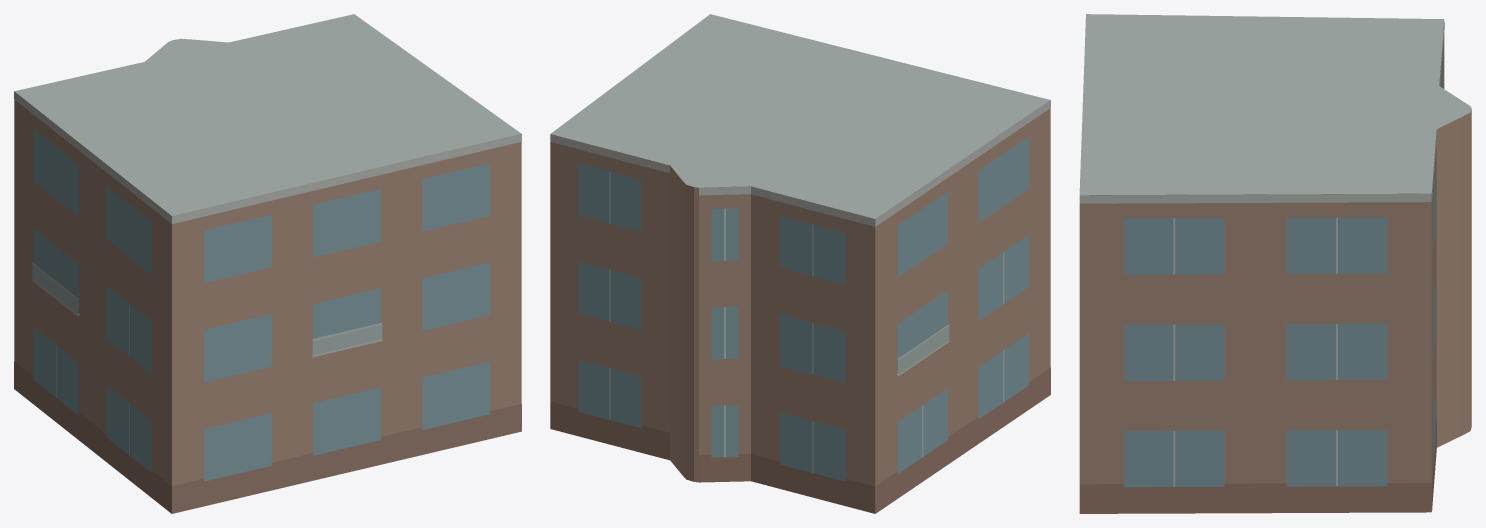
File: survey-upis-33032239.glb
3 renders of one model, left to right at view 1: azimuth 30°, elevation 25°; view 2: azimuth 150°, elevation 25°; view 3: azimuth 270°, elevation 25°, orthographic. The views are drawn at different scales.
Parts seen in each view (by area): view 1: survey-upis-33032239.tmp; view 2: survey-upis-33032239.tmp; view 3: survey-upis-33032239.tmp.
Part boxes in pixels (x1,y1,x2,y2): survey-upis-33032239.tmp: (14,14,521,513); survey-upis-33032239.tmp: (550,14,1050,513); survey-upis-33032239.tmp: (1079,14,1471,513).
Bounding box in the file's own units: 11.16 × 9.15 × 10.21.
